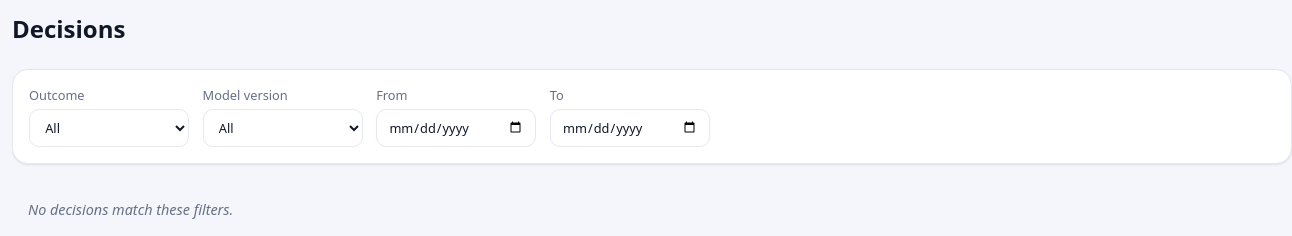
Test: DecisionsPage › filters by model version, refetching decisions with the selected id
This screenshot has width=1292, height=236.
Expected: the text "No decisions match these filters." is shown, x1=28 y1=200 x2=233 y2=219
Select "credit-risk v1.0.0" in the dropdown labelled "Model version" at (283, 128), box x1=203 y1=109 x2=363 y2=147
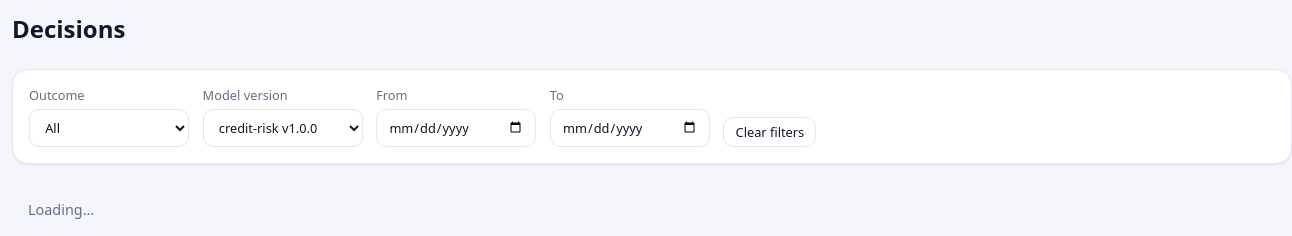
Now the button "Clear filters" is shown
Click the button "Clear filters".
click(770, 132)  # box x1=723 y1=117 x2=816 y2=147
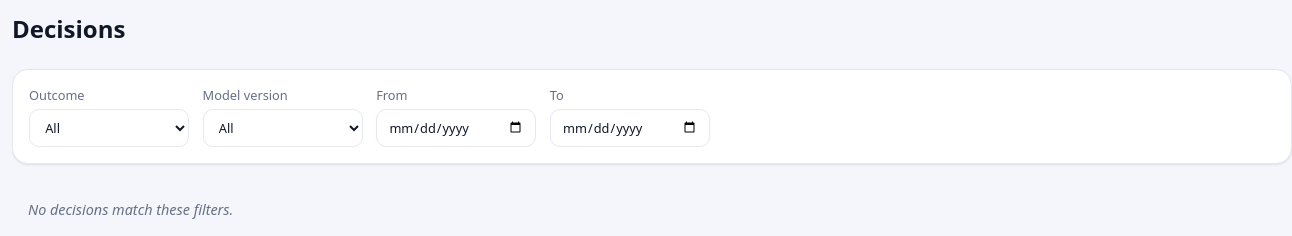
Now the button "Clear filters" is gone
